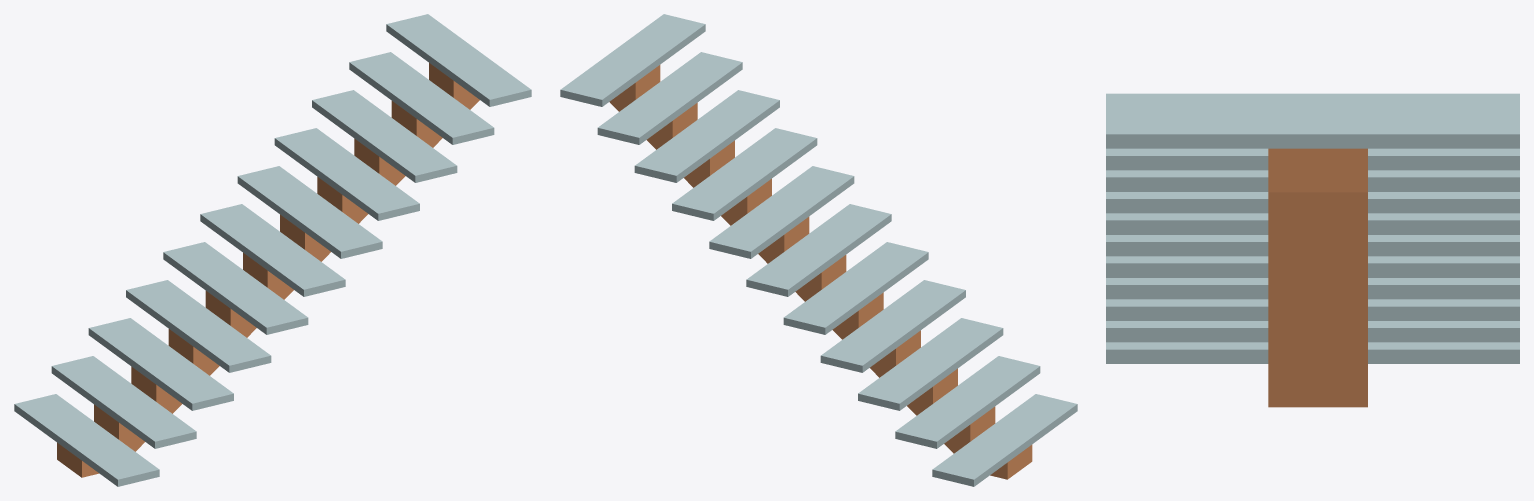
The model's file is stairsOpenSingle.dae.
The picture shows the model from 3 angles, left to right: view 1: azimuth 30°, elevation 25°; view 2: azimuth 150°, elevation 25°; view 3: azimuth 270°, elevation 25°; orthographic projection. The views are drawn at different scales.
Parts seen in each view (by area): view 1: stairsOpenSingle, Group; view 2: stairsOpenSingle, Group; view 3: stairsOpenSingle, Group.
Part boxes in pixels (bbox=[...]): stairsOpenSingle: bbox=[14, 14, 531, 486]; Group: bbox=[57, 63, 479, 477]; stairsOpenSingle: bbox=[560, 14, 1077, 486]; Group: bbox=[609, 65, 1032, 479]; stairsOpenSingle: bbox=[1106, 93, 1519, 363]; Group: bbox=[1268, 148, 1367, 407].
Size of the model in its own units: 1.82 by 1.34 by 0.79.
